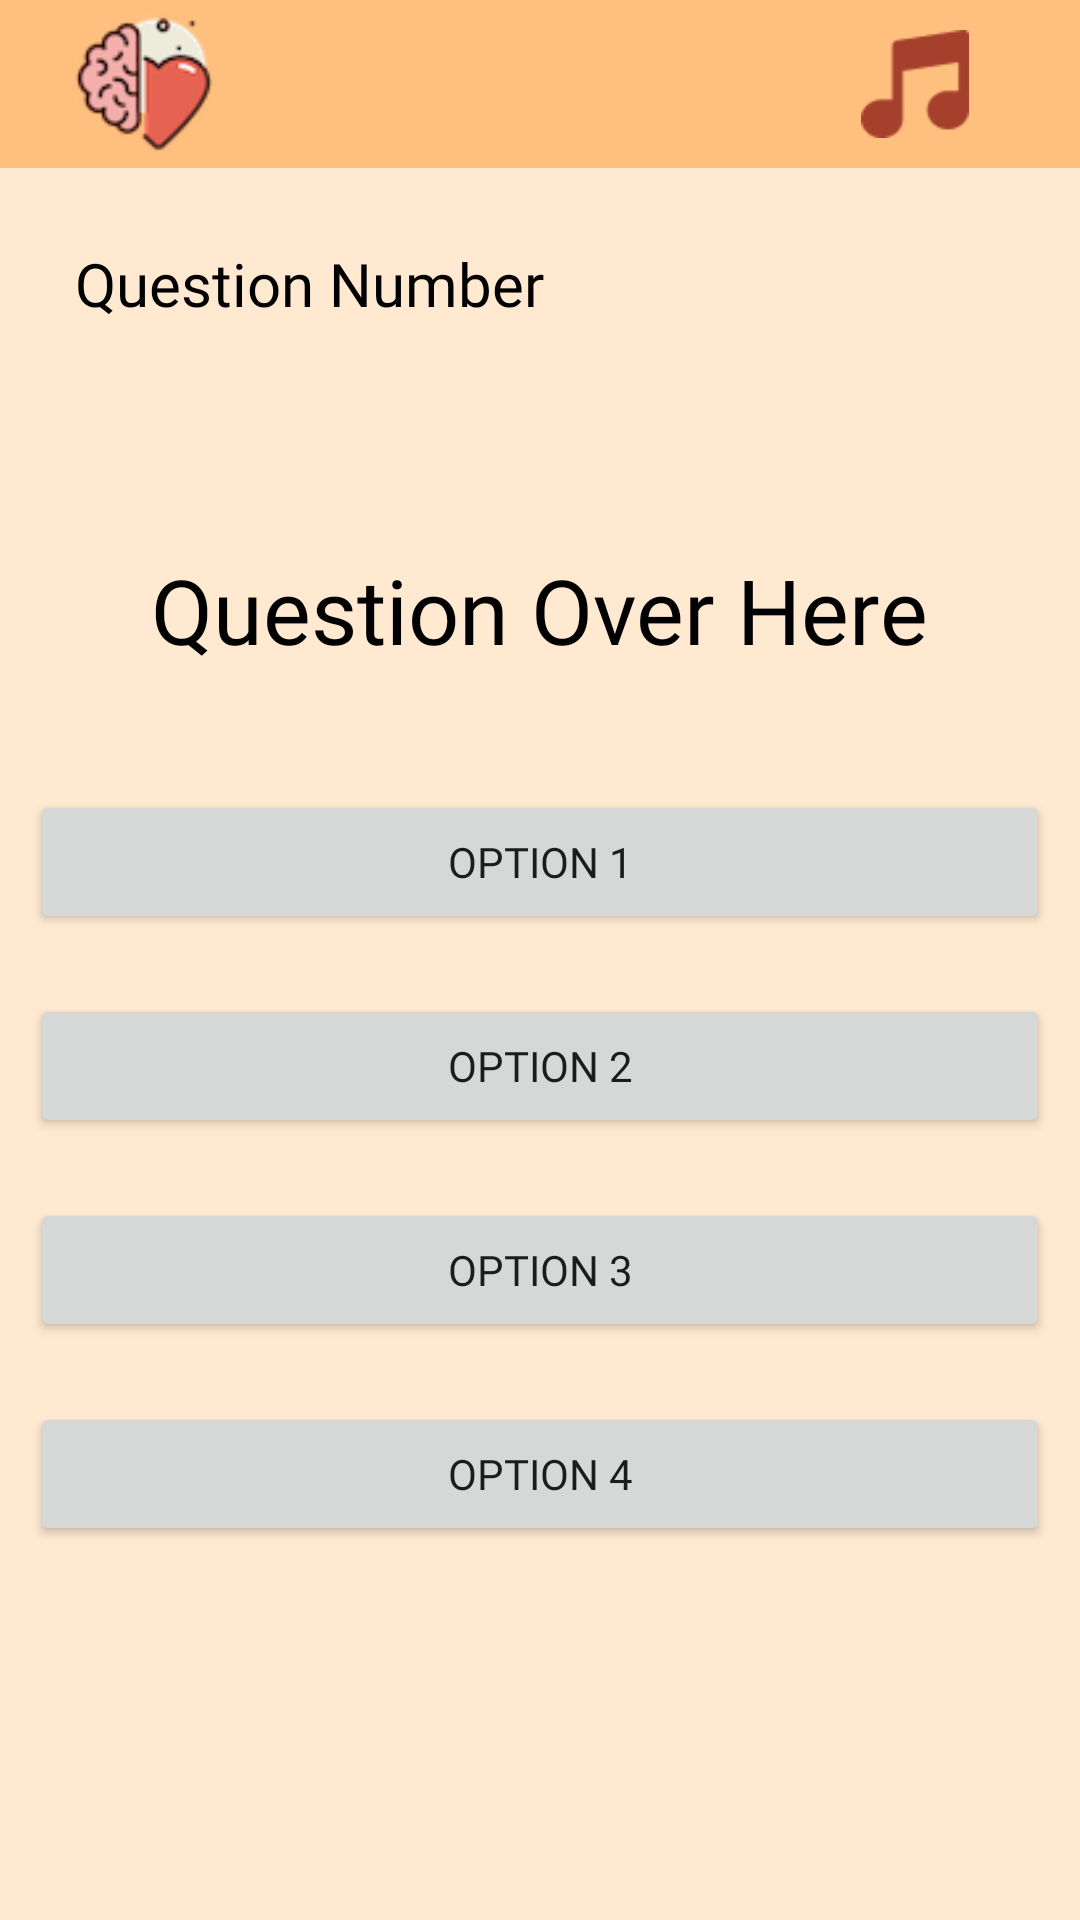

Named icons in this screenshot (1080x1920) and their centers, (x=x, y=y):
music: (x=915, y=84)
